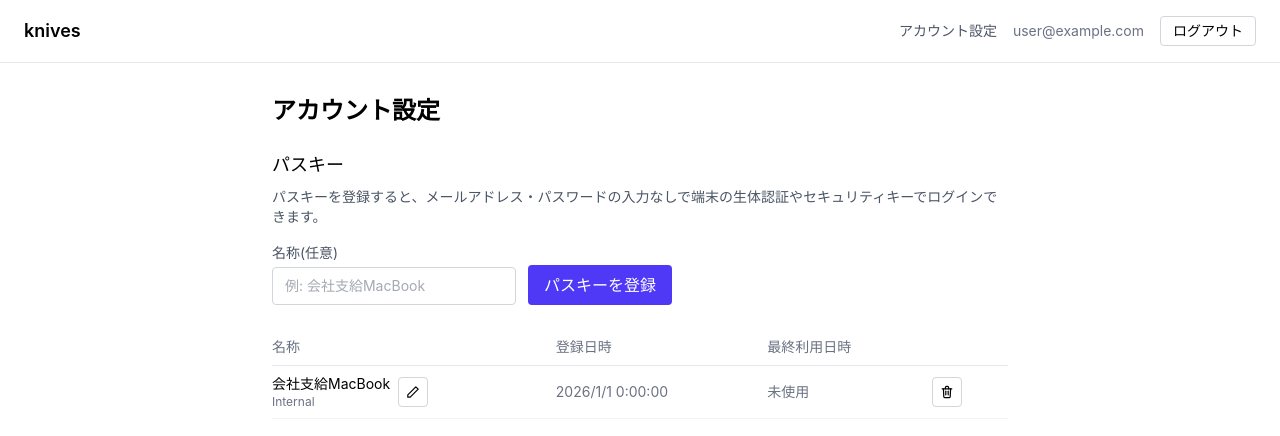
Test: AccountSettingsPage › cancels an in-progress rename without saving
Expected: the text "会社支給MacBook" is shown, [272,374,390,394]
Click the button named "編集" at (413, 392), box [398,377,428,407]
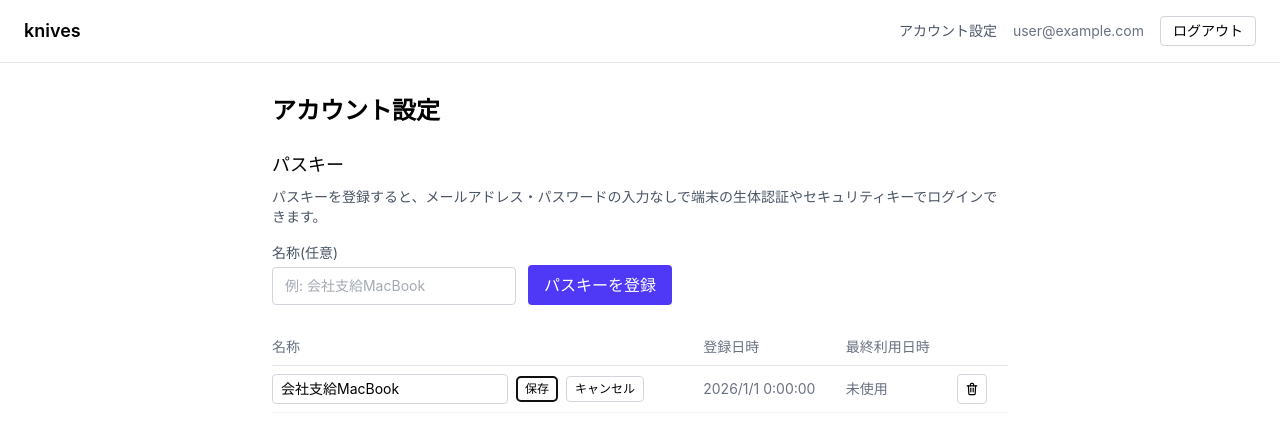
Replace the text in the field named "名称" with "変更中の名前" at (390, 389), box [272,374,508,404]
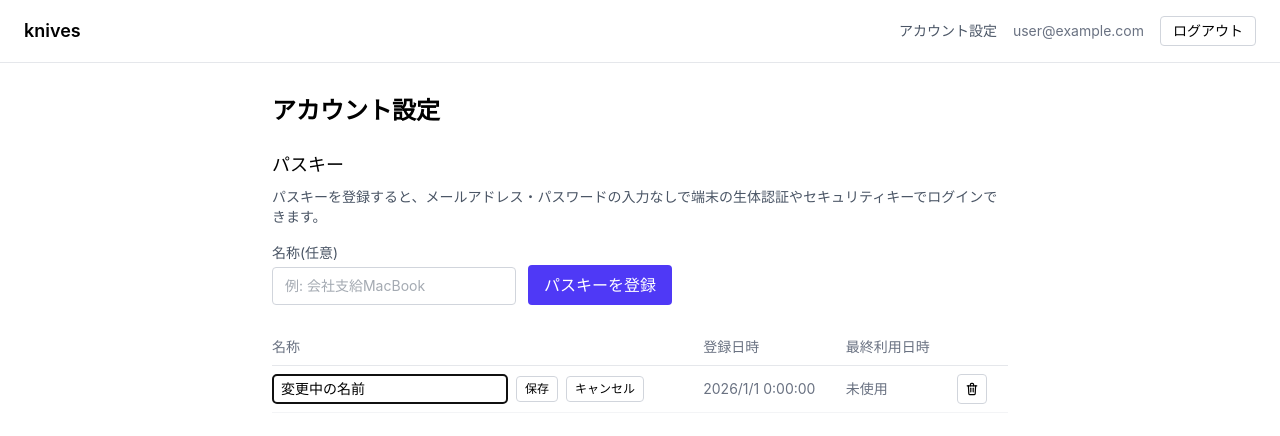
Click the button "キャンセル" at (605, 389), box [566,376,644,402]
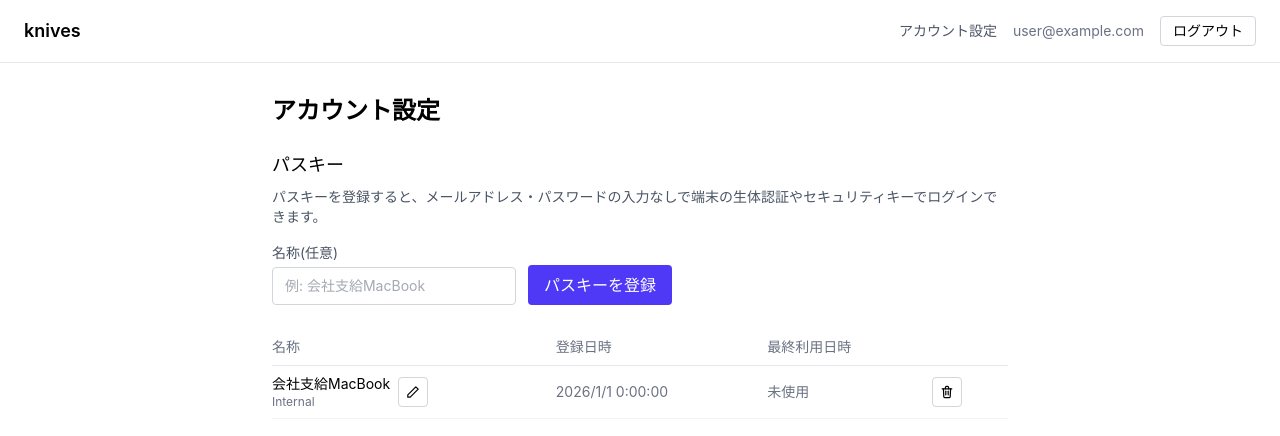
Expected: the text "変更中の名前" is not shown
Result: the text "会社支給MacBook" is shown at [272,374,390,394]
